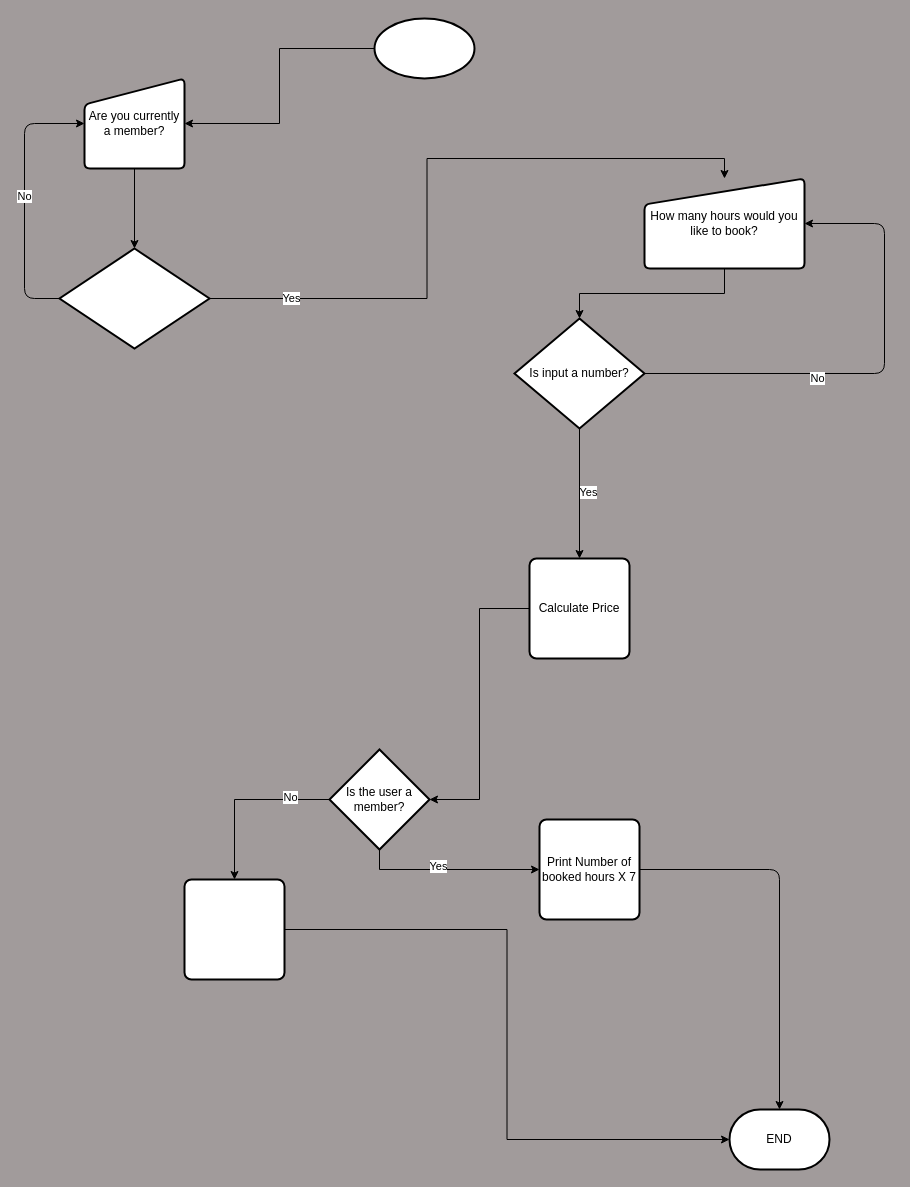
Image size: 910x1187. Some labels were removed from this diagram. Here are the shapes that lost their labels. From the top down, the centre of each, then its label:
(x=424, y=48): Start
(x=134, y=298): Is input a string?
(x=234, y=929): Print Number of booked hours X 10
